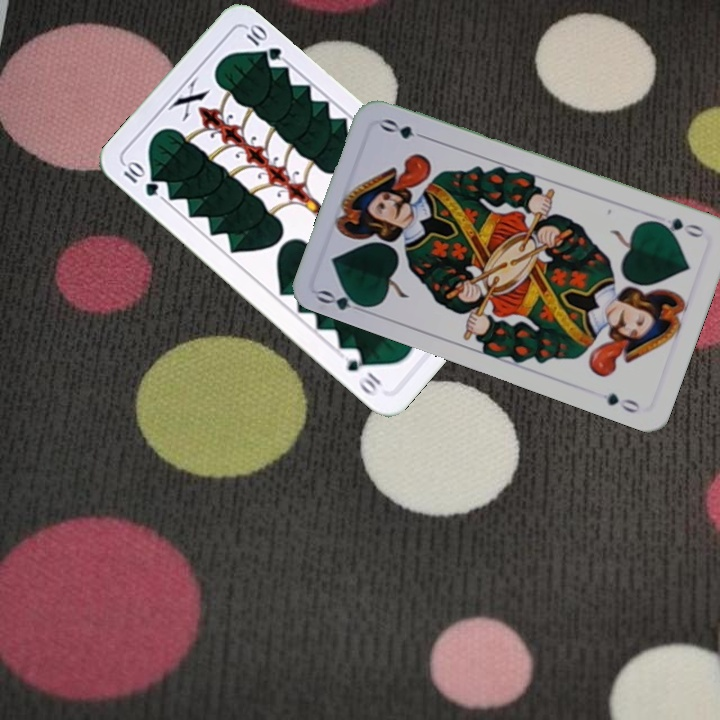G10: (119, 158, 161, 200)
GO: (313, 284, 373, 317), (650, 214, 707, 240)
